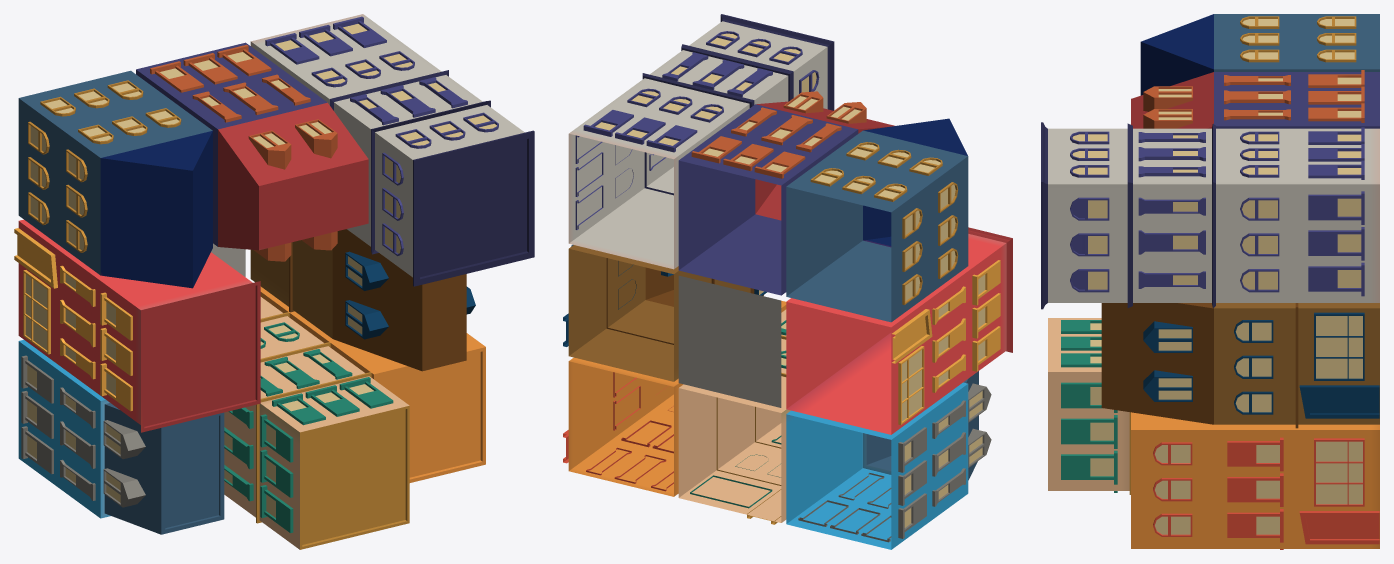
File: MidHouse_01.fbx
3 views of the same model, side by side, from view 1: azimuth 30°, elevation 25°; view 2: azimuth 150°, elevation 25°; view 3: azimuth 270°, elevation 25° (orthographic). The views are drawn at different scales.
Visible parts, largest first — view 1: MidHouse_01; view 2: MidHouse_01; view 3: MidHouse_01.
Part boxes in pixels (x1,y1,x2,y2): MidHouse_01: (14,14,534,549); MidHouse_01: (563,14,1012,549); MidHouse_01: (1041,14,1379,549).
Bounding box in the file's own units: 200 × 199 × 163.
